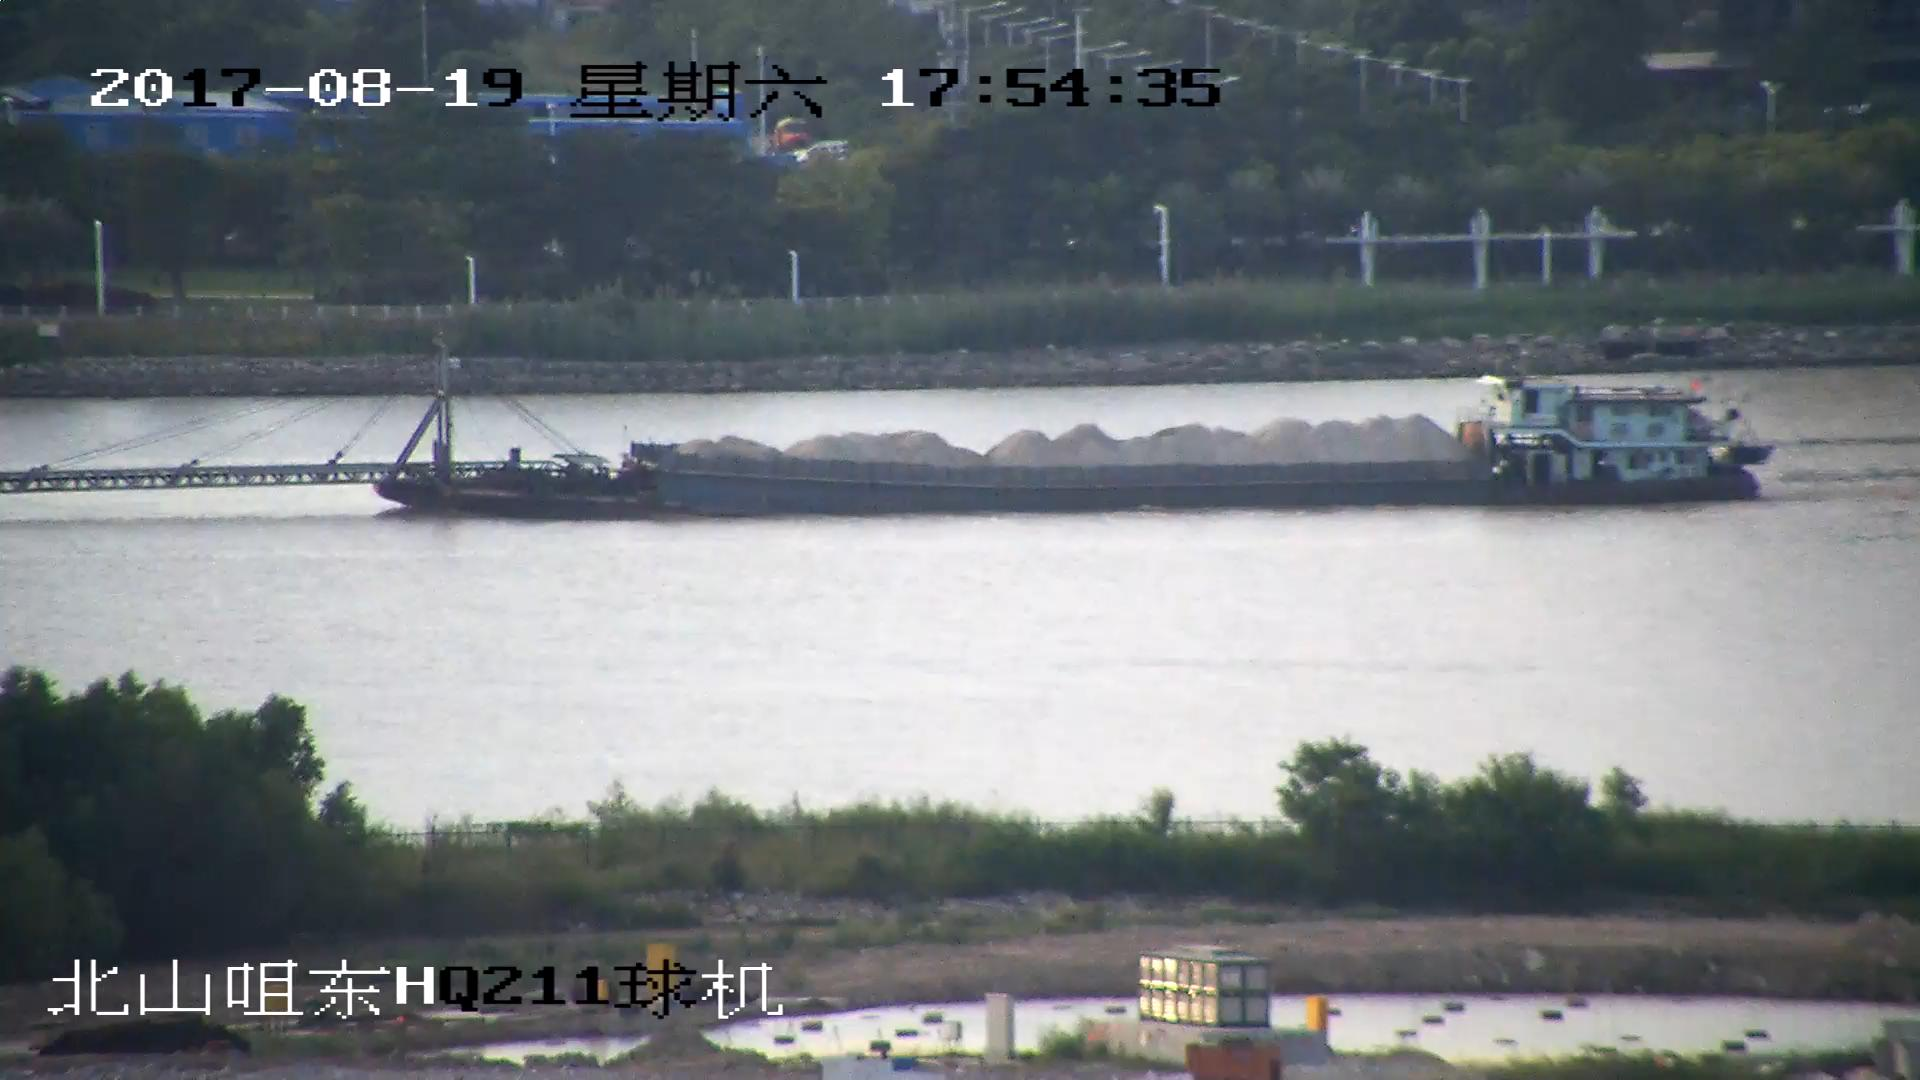ore carrier: (1, 344, 1776, 515)
